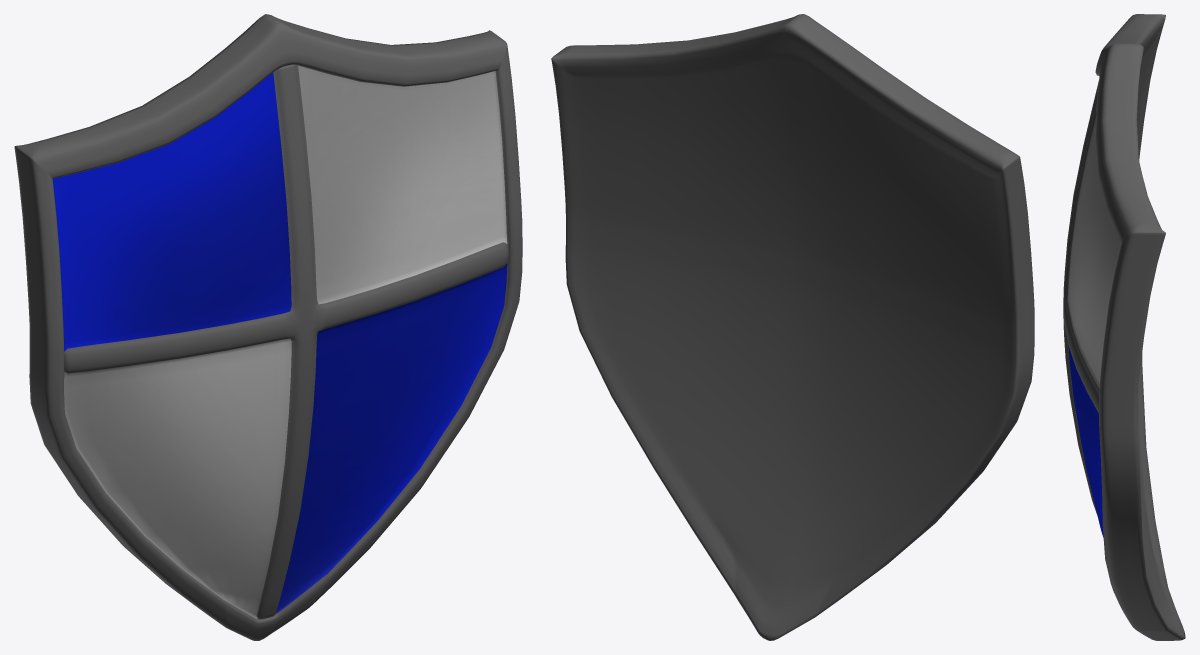
File: Shield.fbx
3 views of the same model, side by side, from view 1: azimuth 30°, elevation 25°; view 2: azimuth 150°, elevation 25°; view 3: azimuth 270°, elevation 25° (orthographic). The views are drawn at different scales.
Parts seen in each view (by area): view 1: shield; view 2: shield; view 3: shield.
Boxes of the visible parts, x1,y1,x2,y2 form: shield: (14,14,522,640); shield: (551,14,1034,640); shield: (1063,14,1185,640).
Bounding box in the file's own units: 513 × 654 × 121.
